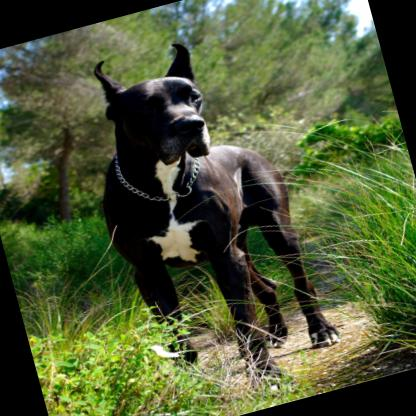Great_Dane: (61, 20, 348, 416)
